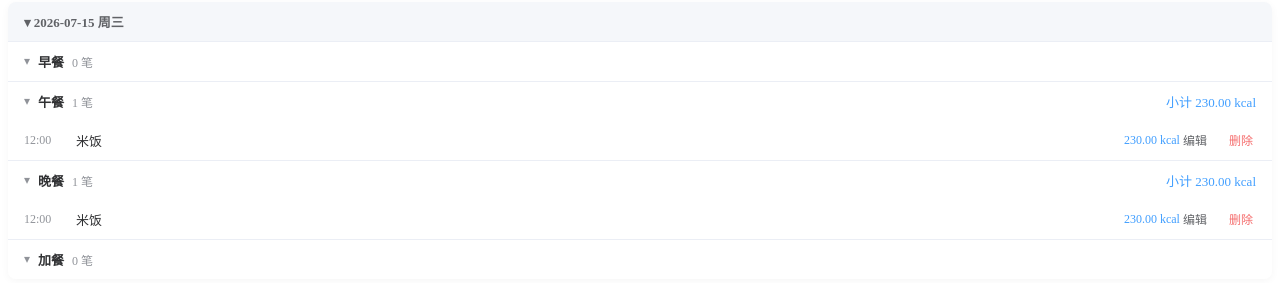
Scenario: DietDayGroup / 折叠 / 展开 › 单餐折叠不影响其他餐
Click the element with test id "diet-meal-header-2026-07-15-LUNCH".
click(640, 102)  # box [8, 82, 1272, 121]
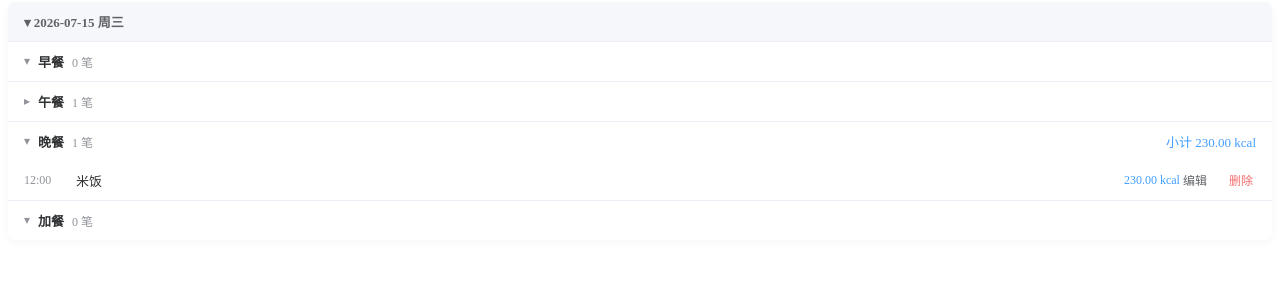
Expected: the text with test id "diet-meal-caret-2026-07-15-DINNER" reads "▾", [24, 134, 30, 148]
Now the text with test id "diet-meal-caret-2026-07-15-LUNCH" reads "▸", box [24, 94, 30, 108]
